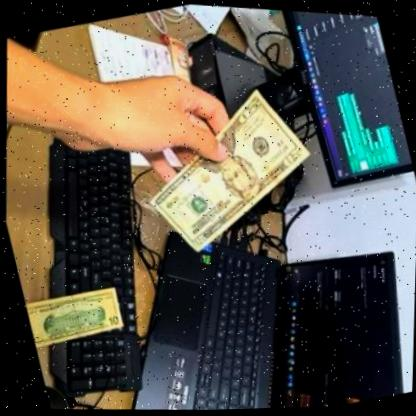ten-back: (21, 276, 126, 357)
twenty-front: (118, 65, 334, 274)
